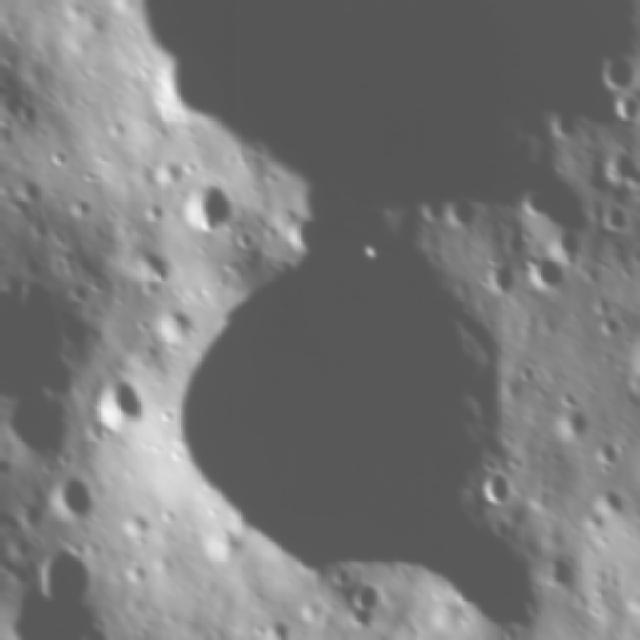crater: (139, 198, 535, 630), (0, 262, 85, 390), (8, 578, 109, 640), (1, 386, 76, 460), (519, 180, 595, 240), (35, 542, 96, 603), (93, 374, 149, 431), (179, 176, 235, 230), (47, 468, 99, 515), (519, 249, 570, 294), (476, 462, 521, 507), (601, 131, 640, 182), (536, 544, 579, 587), (596, 44, 638, 88), (549, 396, 591, 439), (339, 582, 387, 615), (161, 299, 197, 341), (144, 251, 179, 294), (444, 189, 482, 228), (546, 105, 582, 143), (13, 93, 47, 129), (481, 254, 516, 288), (594, 195, 628, 230), (596, 306, 630, 340), (594, 481, 628, 514), (596, 429, 624, 466), (611, 92, 640, 120), (0, 64, 11, 107)
